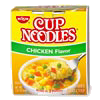grozi_25: (9, 4, 90, 96)
